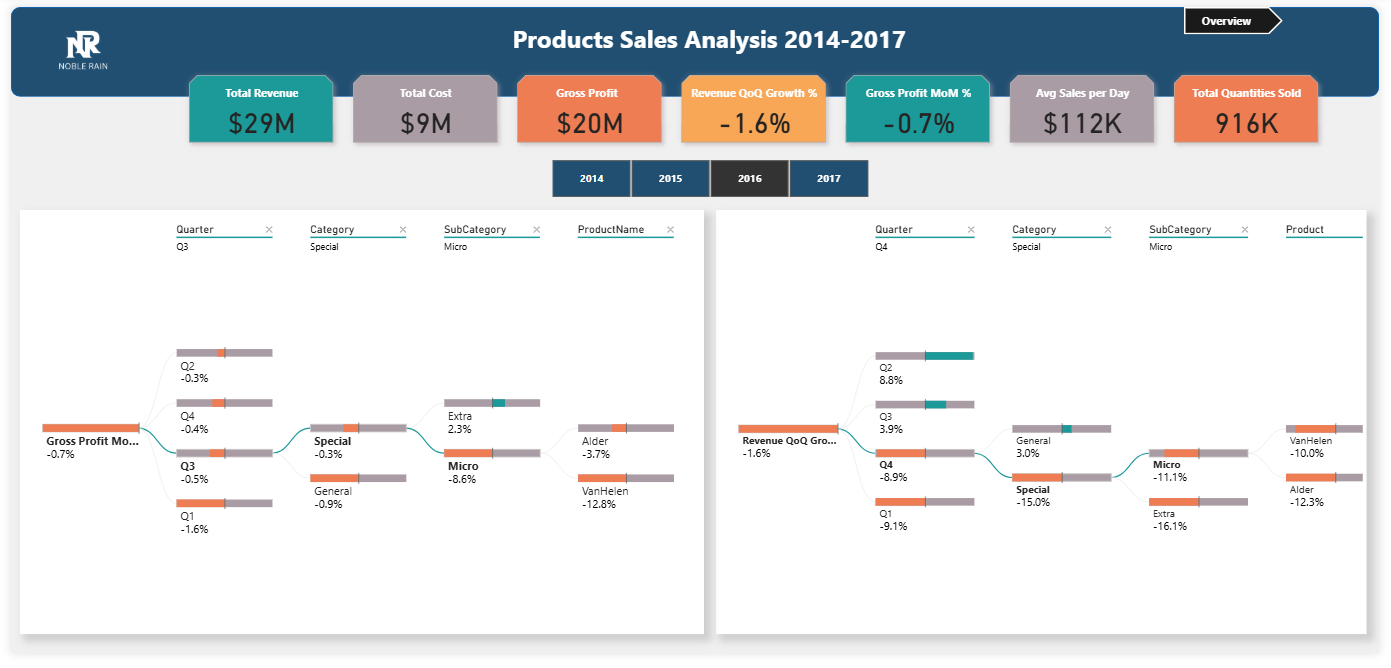

The page's visual inventory and layout, read from the dashboard file:
{"tool":"powerbi","page":{"name":"Dropdown Track","canvas":[1800,850],"ordinal":2},"visuals":[{"type":"shape","box":[0,0,1800,118],"z":0},{"type":"cardVisual","fields":{"Data":["Dax.Total Revenue","Dax.Total Cost","Dax.Gross Profit","Dax.Revenue QoQ Growth %","Dax.Gross Profit MoM %","Dax.Avg Sales per Day","Dax.Total Quantities Sold"]},"box":[216.5,71.8,1521.2,123.5],"z":1000},{"type":"textbox","box":[650.1,14.6,537.3,60.6],"z":2000},{"type":"image","box":[0,0,189.4,117.6],"z":3000},{"type":"decompositionTreeVisual","fields":{"Analyze":["Dax.Revenue QoQ Growth %"],"ExplainBy":["Calendar.Quarter","Product.Category","Product.SubCategory Name","Product.ProductName"]},"box":[927.4,266.7,856.2,558.1],"z":4000},{"type":"slicer","fields":{"Values":["Calendar.Year"]},"box":[686.5,195.3,464.6,61.9],"z":5000},{"type":"decompositionTreeVisual","fields":{"Analyze":["Dax.Gross Profit MoM %"],"ExplainBy":["Calendar.Quarter","Product.Category","Product.SubCategory Name","Product.ProductName"]},"box":[12.1,266.8,900,558],"z":6000},{"type":"pageNavigator","box":[1542.9,0,130.4,36],"z":6001}]}

Visuals, with their boxes in screenshot pixels (x1, y1, x2, y2), scaled from the page's 1800x850 canvas onto the 1391x668 screenshot:
shape: <box>0,0,1390,93</box>
cardVisual - Dax.Total Revenue x Dax.Total Cost: <box>167,56,1343,153</box>
textbox: <box>502,11,918,59</box>
image: <box>0,0,146,92</box>
decompositionTreeVisual - Dax.Revenue QoQ Growth % x Calendar.Quarter: <box>717,210,1378,648</box>
slicer - Calendar.Year: <box>531,153,890,202</box>
decompositionTreeVisual - Dax.Gross Profit MoM % x Calendar.Quarter: <box>9,210,705,648</box>
pageNavigator: <box>1192,0,1293,28</box>
